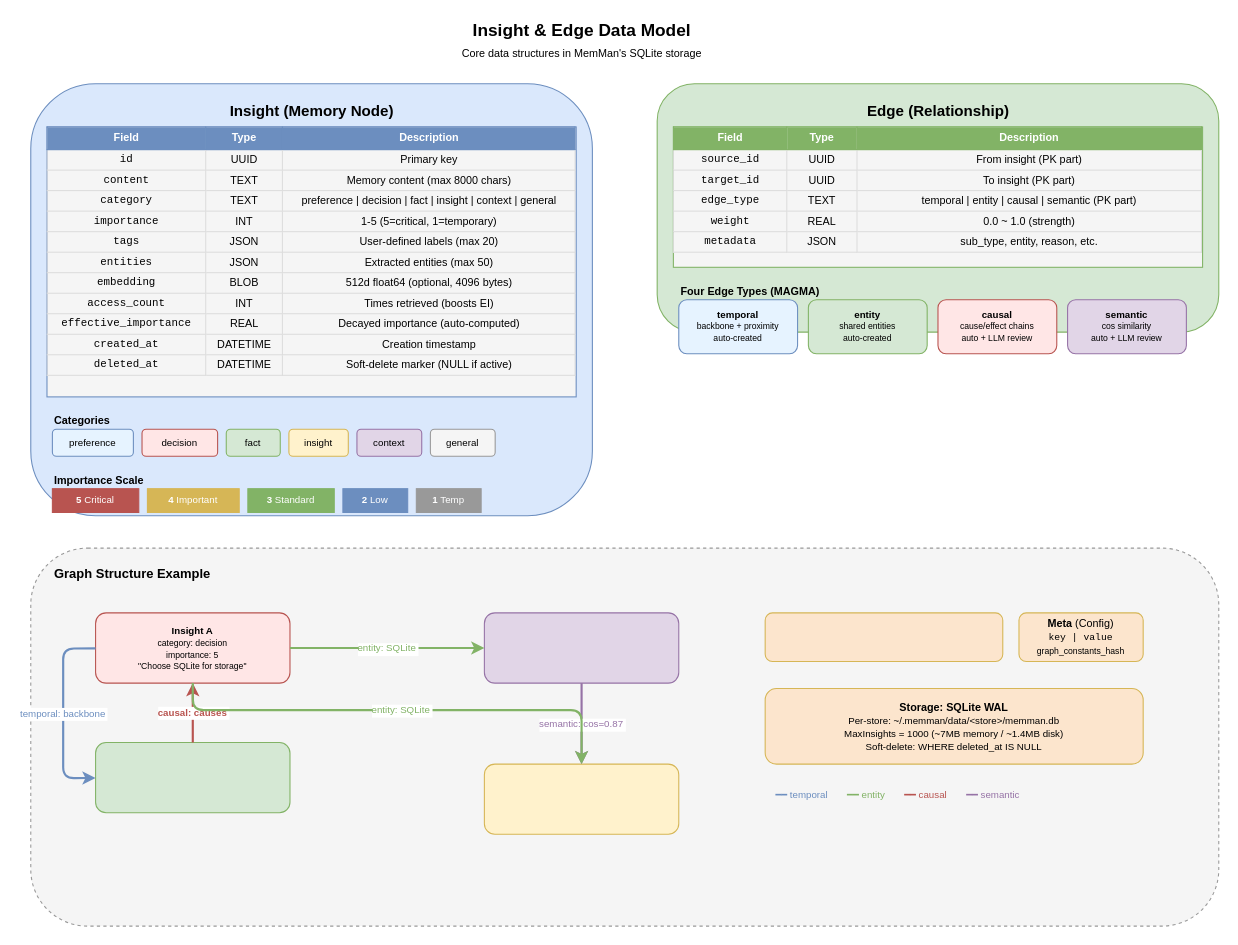
Image size: 1238x945. Some labels were removed from this diagram. The box of each missing label's shape, as (x1, y1, x2, y2) in pixels:
Insight B category: fact importance: 3 "Team lacks Redis experience": (94, 741, 290, 813)
Insight C category: context importance: 3 "SQLite WAL concurrency test": (483, 612, 679, 683)
Insight D category: insight importance: 4 "DB comparison report": (483, 763, 679, 834)
OpLog (Audit Trail) id | operation | insight_id | detail | created_at: (764, 612, 1003, 662)
